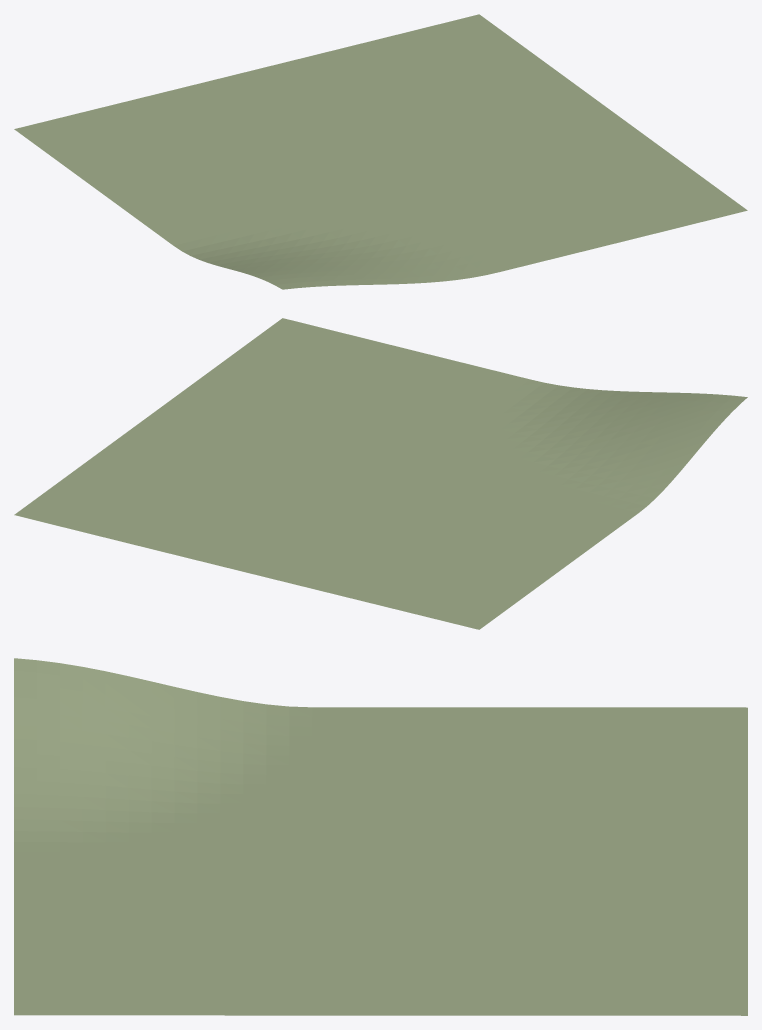
The model's file is desert-7-21.glb.
3 renders of one model, top to bottom at view 1: azimuth 30°, elevation 25°; view 2: azimuth 150°, elevation 25°; view 3: azimuth 270°, elevation 25°, orthographic. The views are drawn at different scales.
Parts seen in each view (by area): view 1: desert-7-21; view 2: desert-7-21; view 3: desert-7-21.
Boxes of the visible parts, x1=… form: desert-7-21: x1=14, y1=14, x2=747, y2=289; desert-7-21: x1=14, y1=318, x2=747, y2=629; desert-7-21: x1=14, y1=658, x2=747, y2=1015.
Bounding box in the file's own units: 512 × 37.97 × 512.
